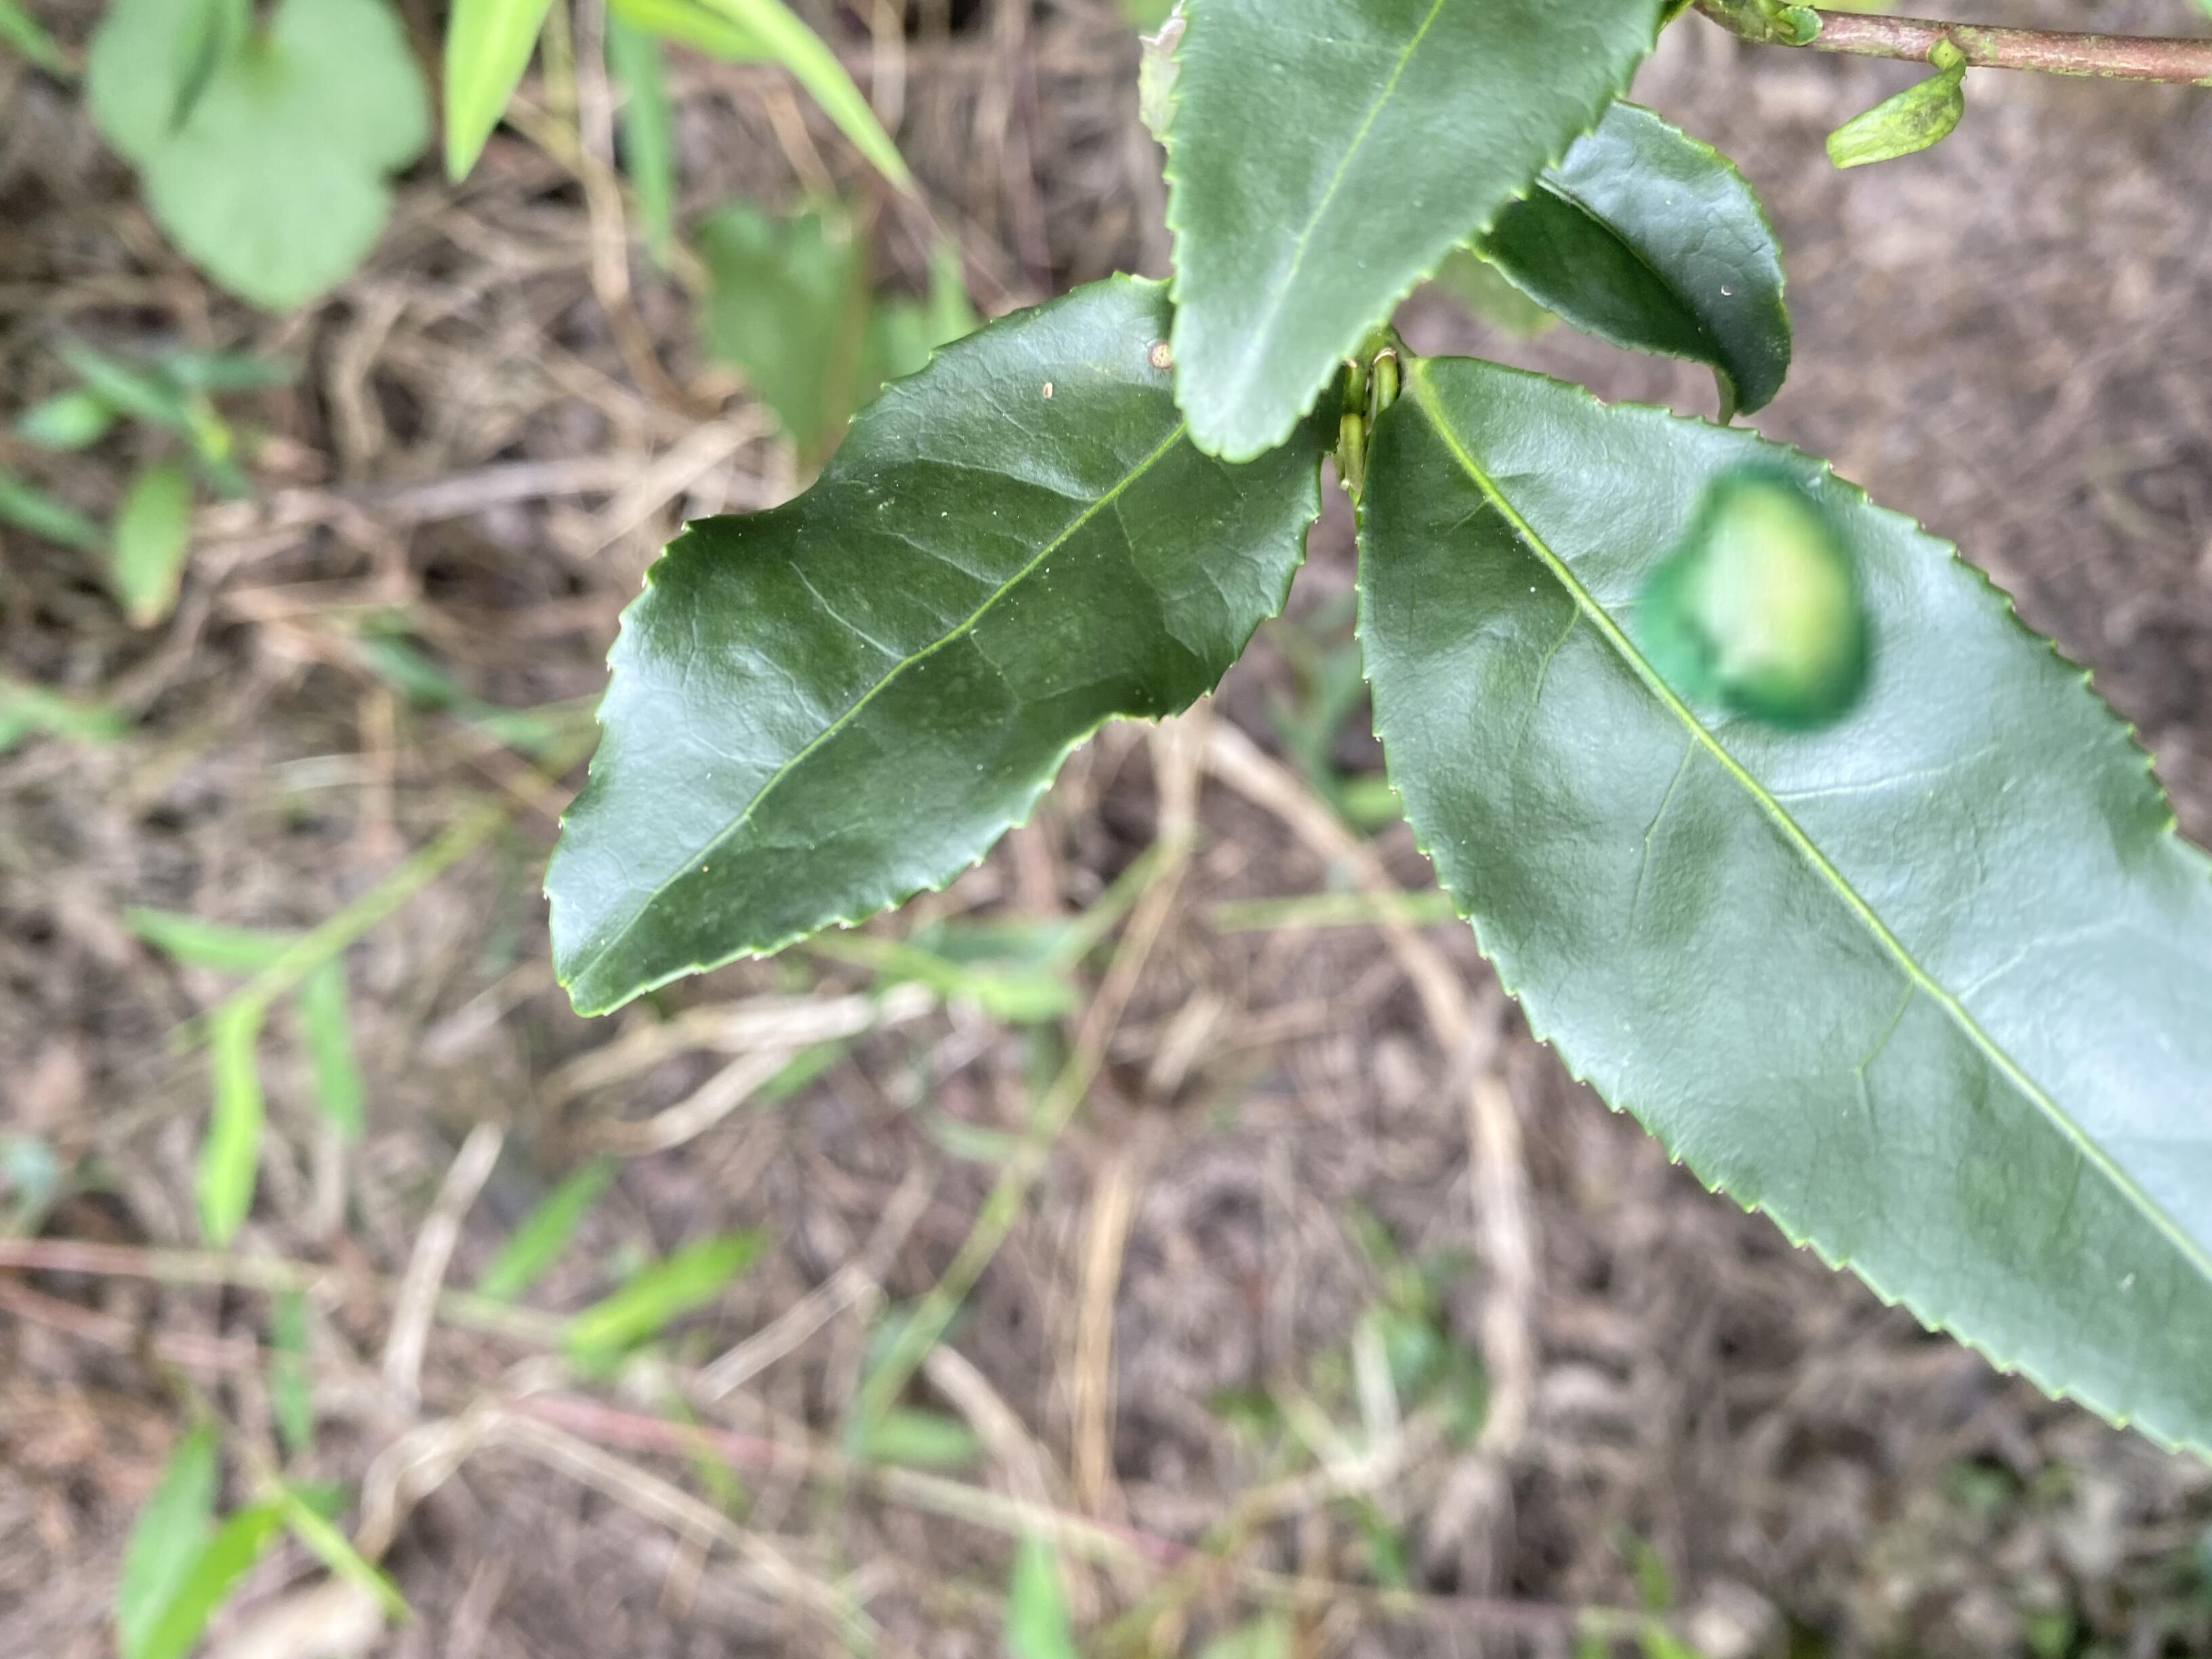chabing_low: (1357, 350, 2209, 1455)
tanju_low: (538, 272, 1329, 1021)
